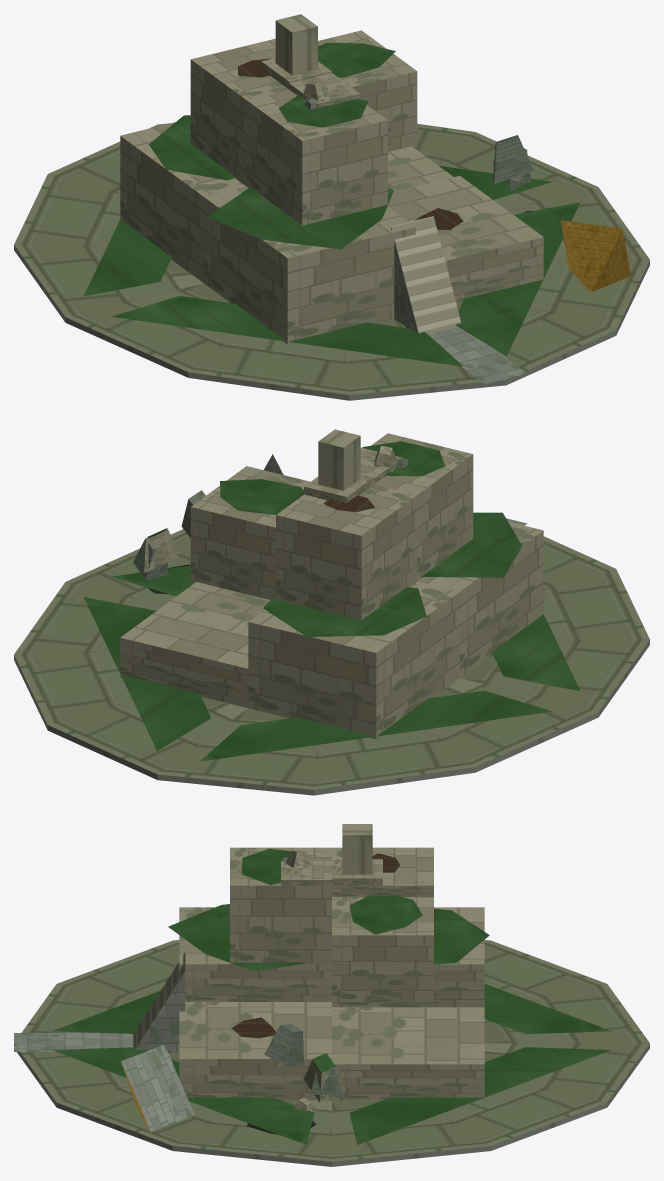
File: pyramid_large_destroyed_lod2.glb
The picture shows the model from 3 angles, top to bottom: view 1: azimuth 30°, elevation 25°; view 2: azimuth 150°, elevation 25°; view 3: azimuth 270°, elevation 25°; orthographic projection. The views are drawn at different scales.
Visible parts, largest first — view 1: pyramid_large_destroyed_lod2; view 2: pyramid_large_destroyed_lod2; view 3: pyramid_large_destroyed_lod2.
Boxes of the visible parts, bbox=[...] form: pyramid_large_destroyed_lod2: bbox=[14, 14, 649, 400]; pyramid_large_destroyed_lod2: bbox=[14, 429, 649, 795]; pyramid_large_destroyed_lod2: bbox=[14, 824, 649, 1166].
Bounding box in the file's own units: 1.68 × 0.6894 × 1.9.
1 material, 1 textured.
